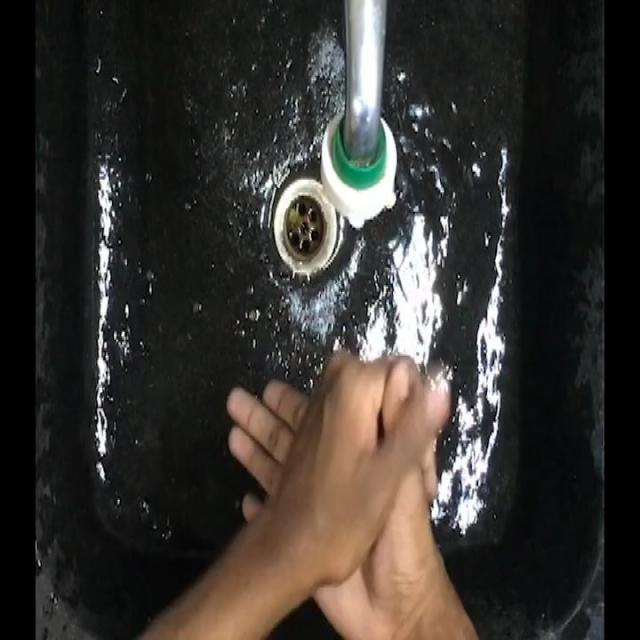step_5: (207, 325, 460, 627)
